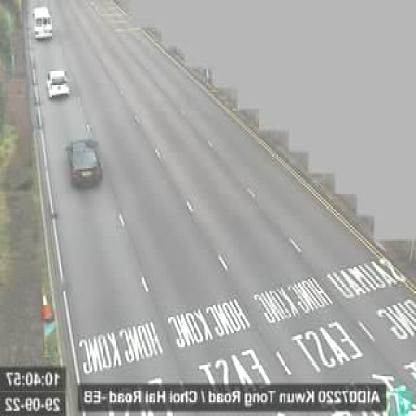Car: (65, 135, 104, 194), (44, 64, 74, 97), (32, 6, 56, 43)
